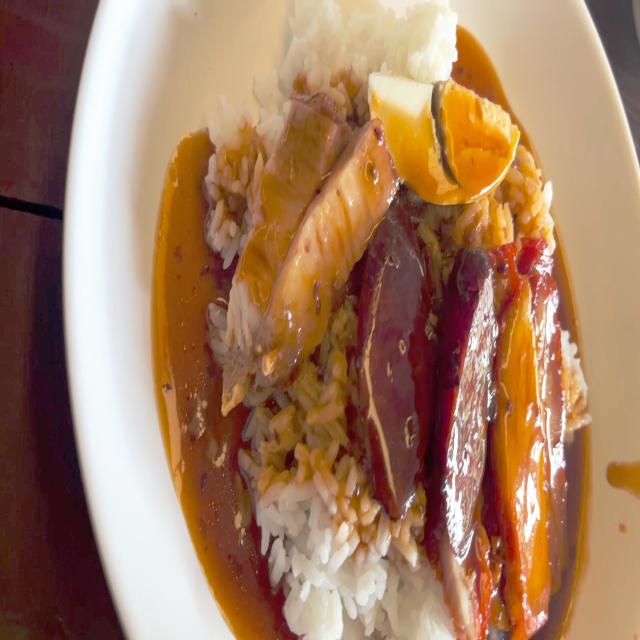boiled_egg: (366, 61, 524, 198)
chainese_sausage: (364, 231, 496, 519), (358, 221, 442, 504), (432, 234, 492, 544)
crispy_pork: (227, 92, 390, 405), (228, 88, 339, 374), (277, 128, 392, 374)
red_pork: (502, 247, 560, 599), (498, 267, 548, 625), (534, 251, 558, 588)
red_pork_and_crispy_pork: (200, 0, 590, 640)
rice: (258, 403, 367, 633), (295, 0, 458, 81)
